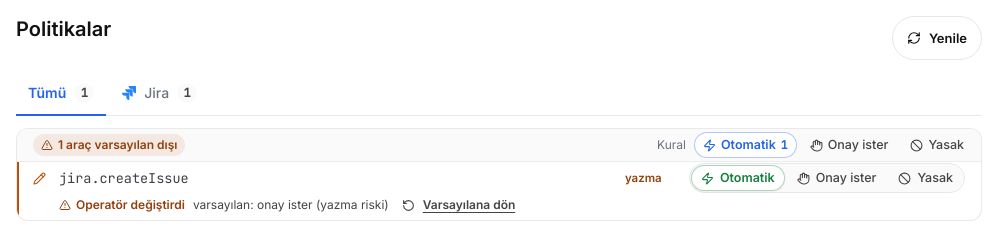
a_tool_moved_out_of_the_filtered_rule_keeps_its_place_and_says_where_it_went
Step 1. Click the radio button labelled "Onay ister" → (837, 178), box [797, 170, 876, 185]
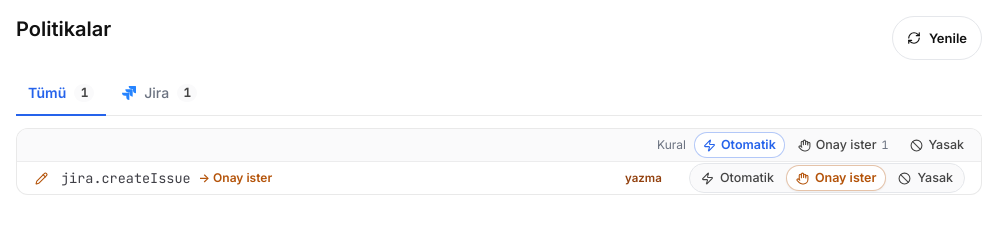
expect the text "→ Onay ister" is shown: met, box [199, 168, 272, 188]
